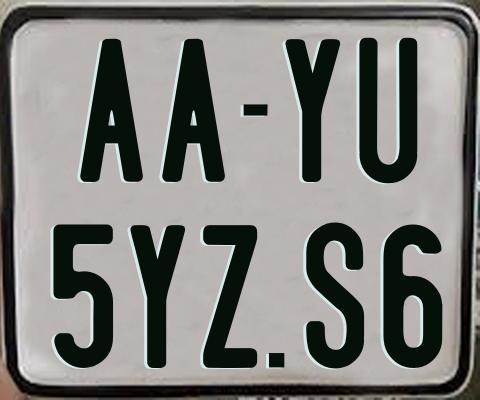5: (53, 221, 115, 366)
6: (381, 223, 442, 368)
A: (161, 36, 230, 184), (77, 36, 145, 180)
S: (305, 221, 364, 371)
U: (357, 35, 419, 186)
Y: (130, 222, 191, 365), (282, 39, 337, 186)
Z: (201, 223, 261, 370)
